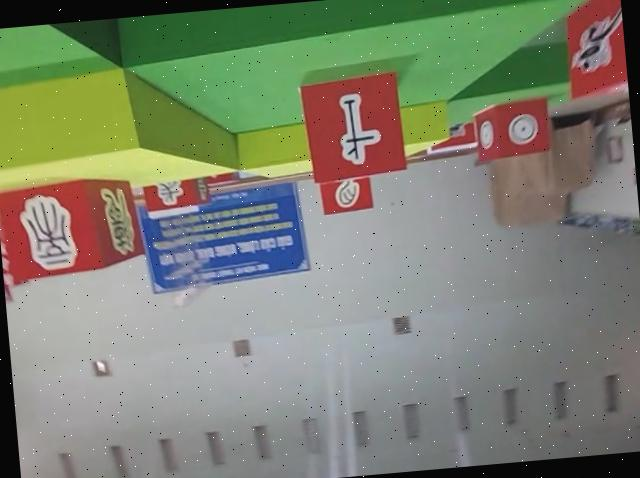R1: (558, 0, 629, 103), (425, 114, 478, 153)
R2 Fake: (0, 170, 147, 284), (137, 165, 212, 216), (314, 163, 376, 218)
R2 Real: (296, 67, 411, 186), (471, 93, 554, 165)
